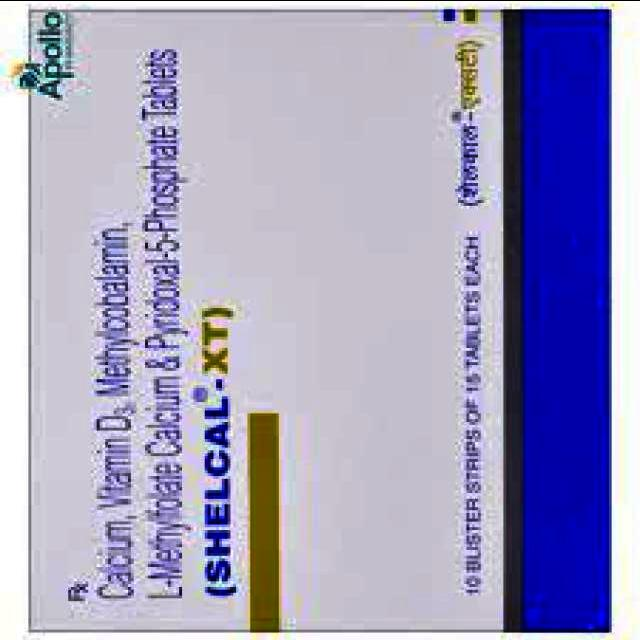authentic: (7, 0, 640, 638)
